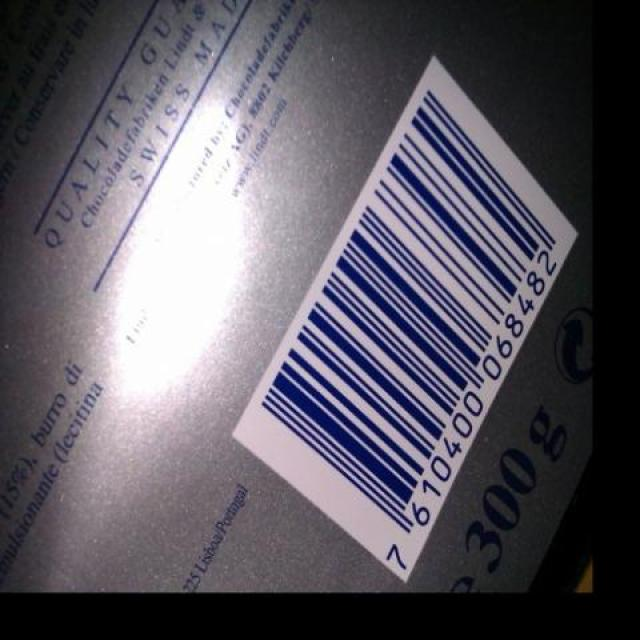Barcode: (232, 56, 577, 584)
